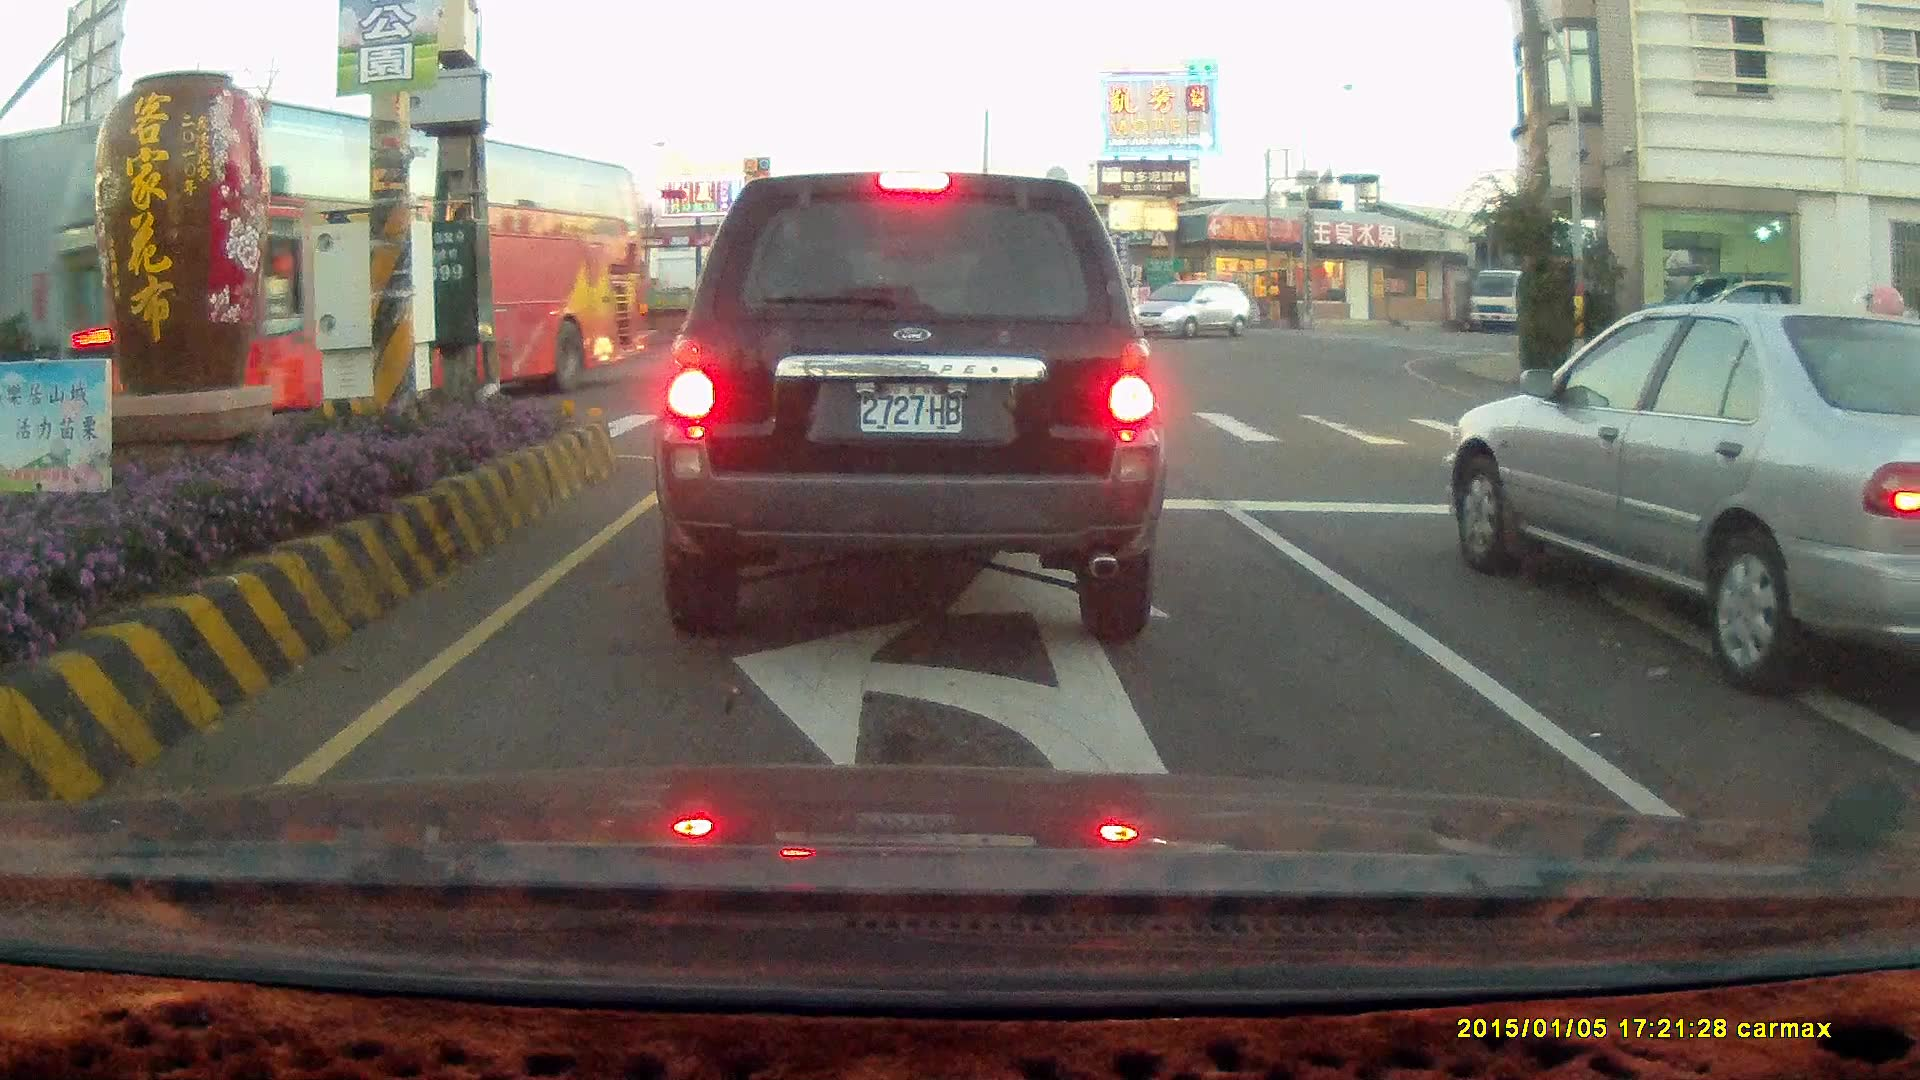vehicle: (649, 167, 1167, 647), (46, 92, 641, 430), (1436, 297, 1920, 699), (1455, 302, 1920, 698), (579, 255, 800, 345), (1642, 276, 1784, 356), (1466, 255, 1604, 338), (1896, 493, 1920, 836), (1137, 278, 1251, 340)
